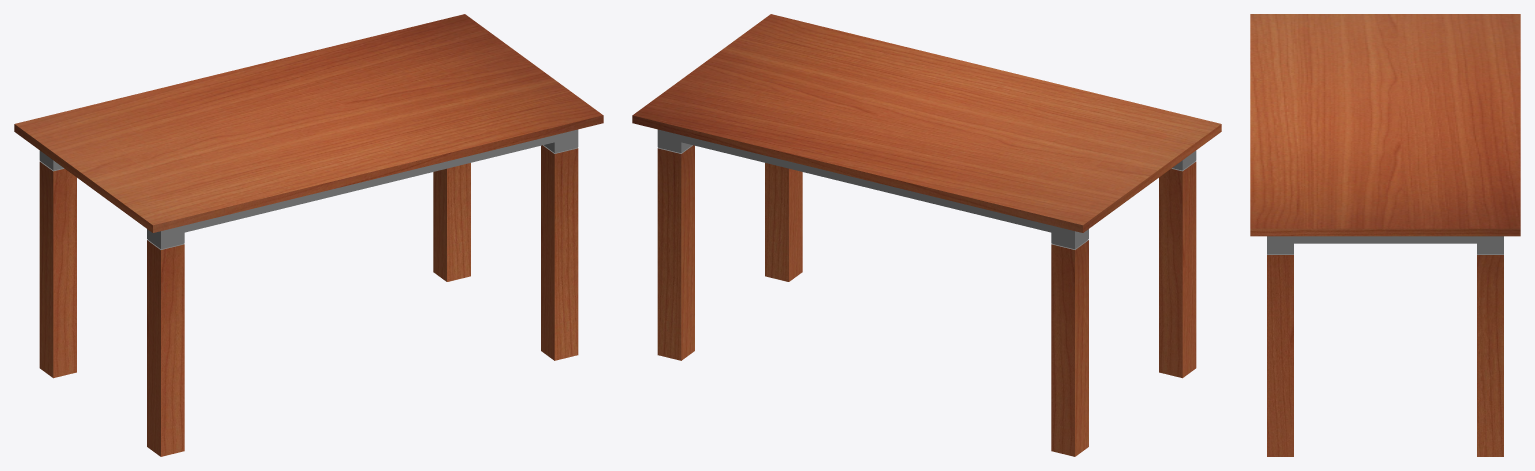
The model's file is wooden_table_office.obj.
3 renders of one model, left to right at view 1: azimuth 30°, elevation 25°; view 2: azimuth 150°, elevation 25°; view 3: azimuth 270°, elevation 25°, orthographic. The views are drawn at different scales.
Parts seen in each view (by area): view 1: mesa_oficina_Cube.008; view 2: mesa_oficina_Cube.008; view 3: mesa_oficina_Cube.008.
Part boxes in pixels (x1=…): mesa_oficina_Cube.008: x1=14, y1=14, x2=603, y2=456; mesa_oficina_Cube.008: x1=632, y1=14, x2=1221, y2=456; mesa_oficina_Cube.008: x1=1250, y1=14, x2=1520, y2=456.
Bounding box in the file's own units: 151 × 77.51 × 80.43.
